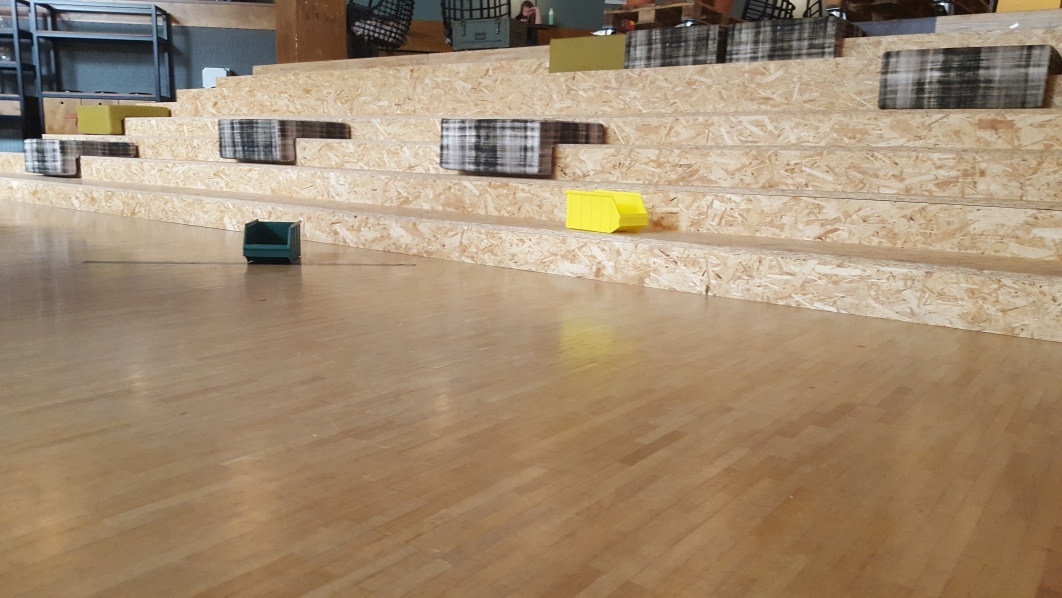tray: (566, 190, 648, 235), (242, 218, 304, 263)
